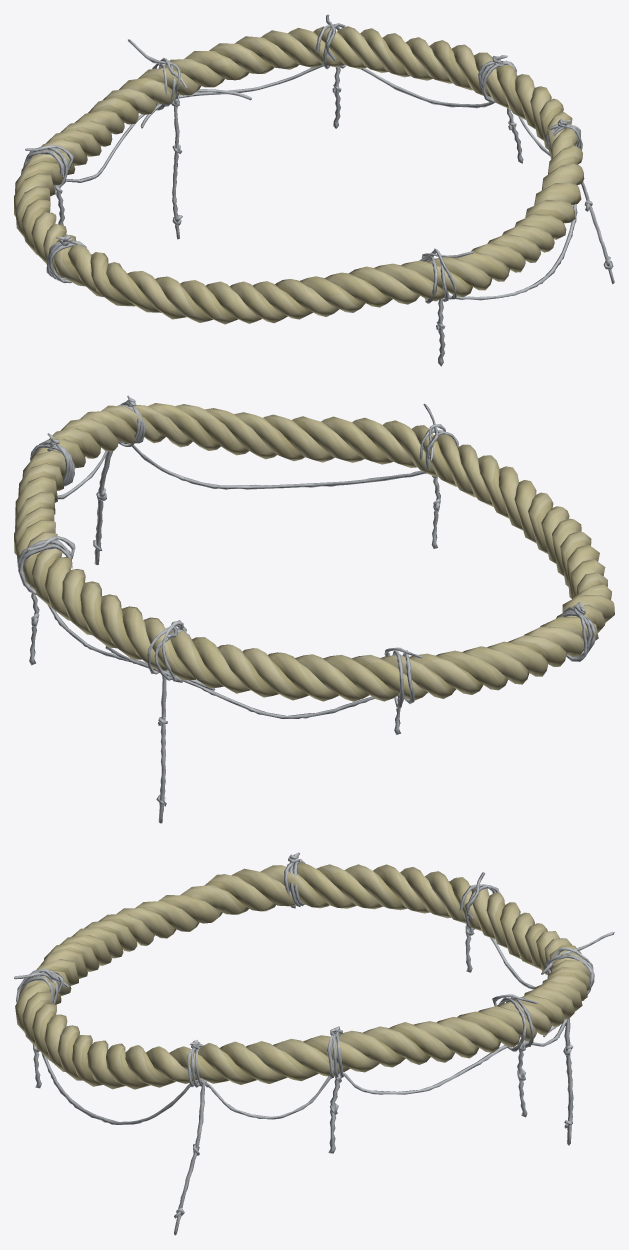
File: SM_ENV_KNFRST_StrawRope_G.FBX
3 renders of one model, top to bottom at view 1: azimuth 30°, elevation 25°; view 2: azimuth 150°, elevation 25°; view 3: azimuth 270°, elevation 25°, orthographic. The views are drawn at different scales.
Visible parts, largest first — view 1: SM_ENV_KNFRST_StrawRope_G; view 2: SM_ENV_KNFRST_StrawRope_G; view 3: SM_ENV_KNFRST_StrawRope_G.
Boxes of the visible parts, x1,y1,x2,y2 form: SM_ENV_KNFRST_StrawRope_G: (14,14,614,366); SM_ENV_KNFRST_StrawRope_G: (14,395,614,823); SM_ENV_KNFRST_StrawRope_G: (14,852,614,1235).
Bounding box in the file's own units: 1338 × 541 × 1314.
